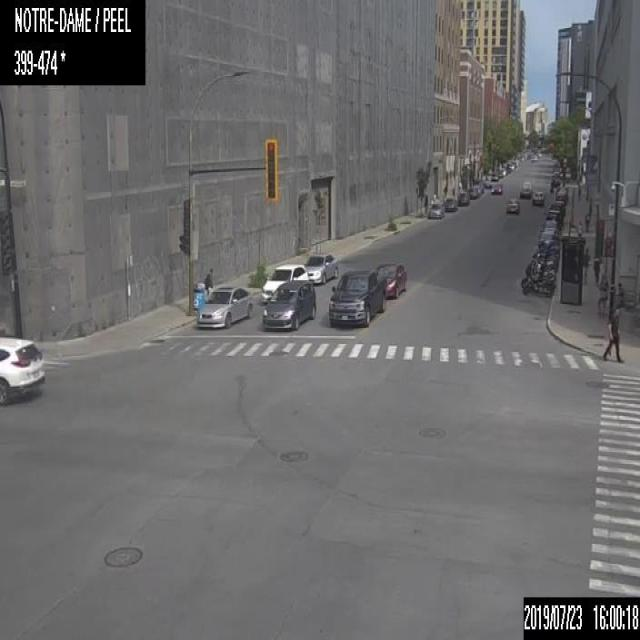pedestrian: (601, 307, 622, 361), (596, 270, 608, 314), (202, 267, 212, 297), (581, 248, 589, 284), (615, 281, 624, 309), (422, 193, 428, 215), (549, 176, 553, 193), (443, 183, 447, 197), (450, 185, 455, 196)
vehicle: (328, 268, 386, 326), (0, 333, 45, 405), (193, 282, 254, 330), (262, 278, 316, 331), (260, 261, 307, 301), (376, 262, 406, 298), (305, 252, 338, 282), (520, 265, 555, 285), (522, 274, 553, 296), (529, 254, 558, 271), (532, 242, 560, 257), (540, 220, 558, 234), (428, 202, 444, 217), (545, 209, 562, 223), (537, 232, 554, 246), (548, 203, 562, 216), (532, 190, 544, 205), (506, 198, 518, 213), (457, 190, 469, 203), (444, 198, 456, 210), (472, 182, 483, 194), (554, 200, 564, 212), (466, 188, 477, 198), (491, 183, 502, 193), (520, 188, 530, 198), (490, 173, 499, 180), (530, 154, 537, 162)
